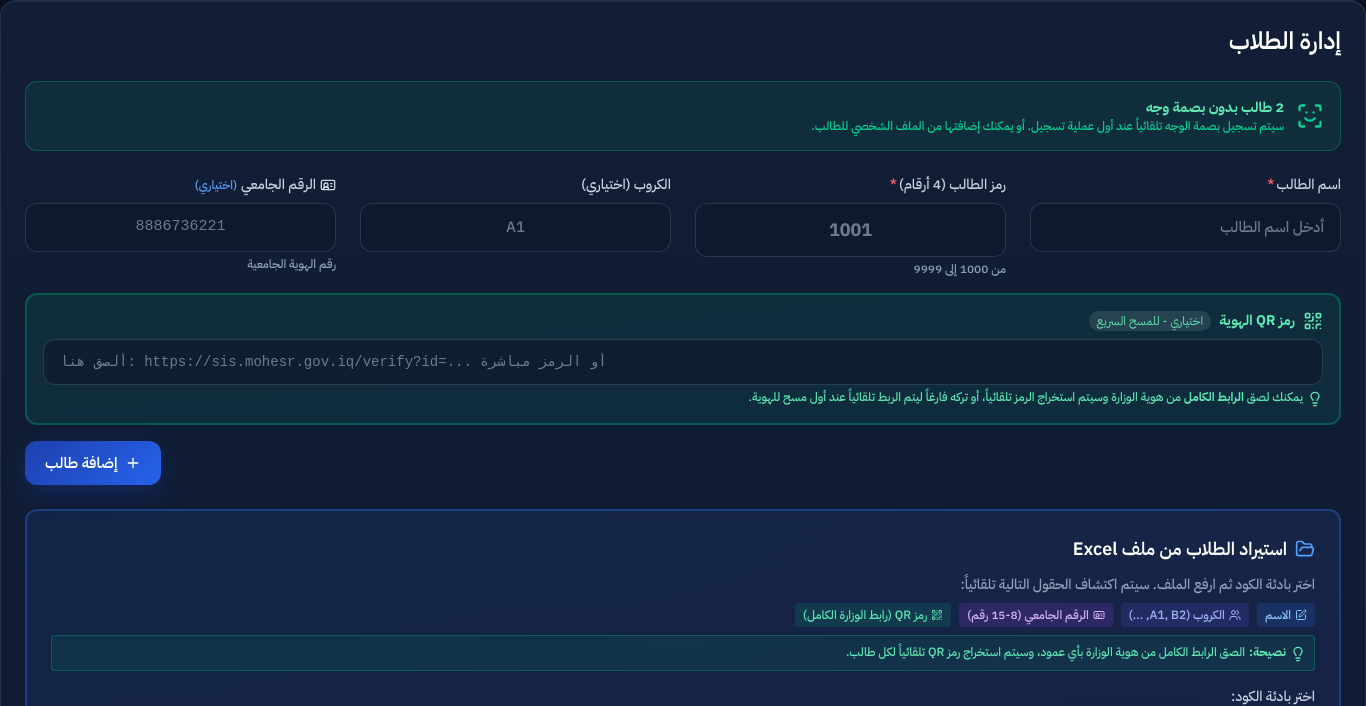
Test: StudentManager › validates code must be exactly 4 digits
Step 1. Type "اختبار" into the field labelled "اسم الطالب*" → point(1186, 227), box [1030, 203, 1341, 252]
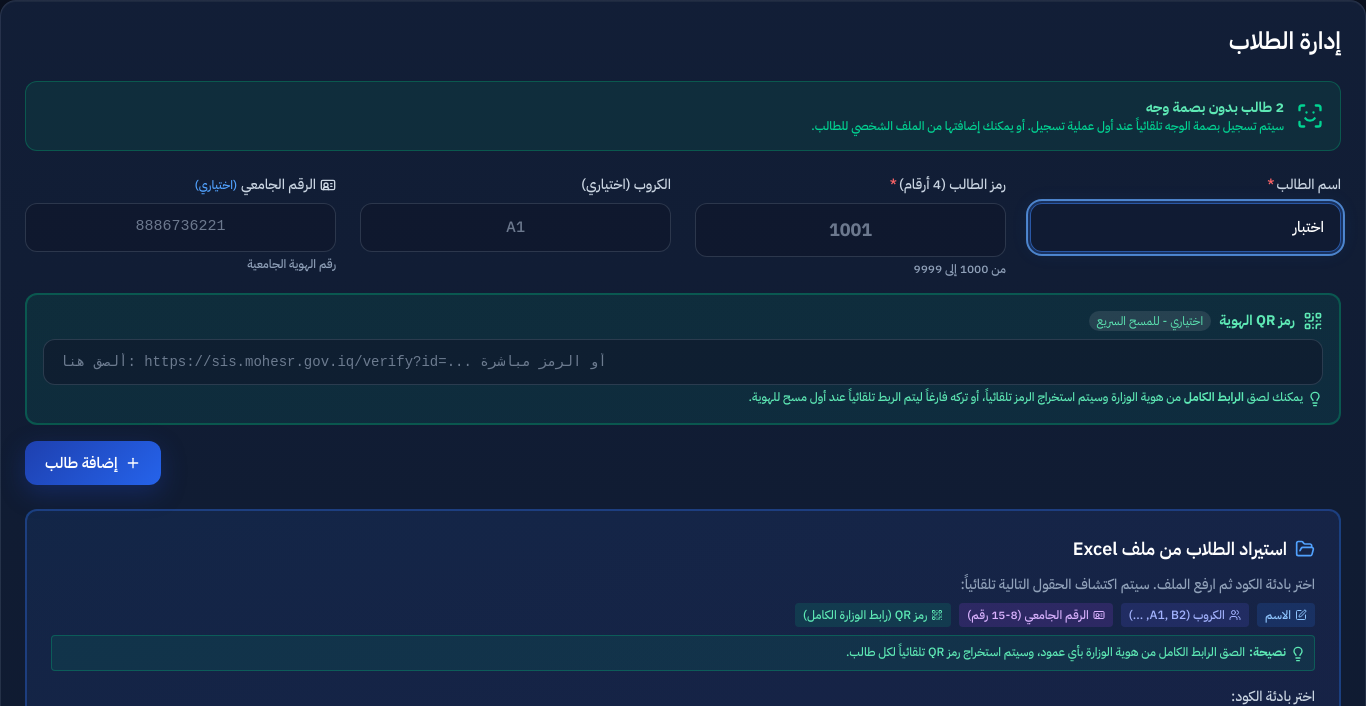
Step 2. Type "12" into the field labelled "رمز الطالب (4 أرقام)*" → point(850, 230), box [695, 203, 1006, 257]
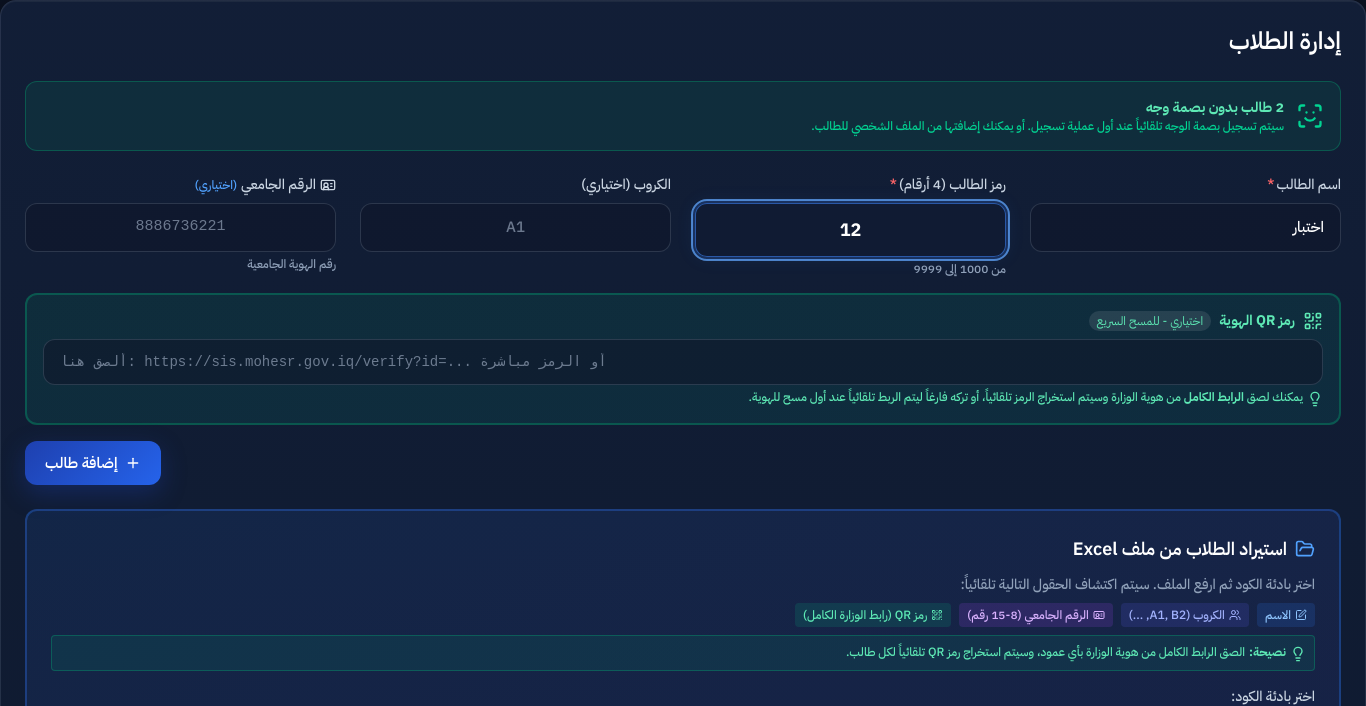
Step 3. Click the button "إضافة طالب" → point(93, 463), box [25, 441, 161, 485]
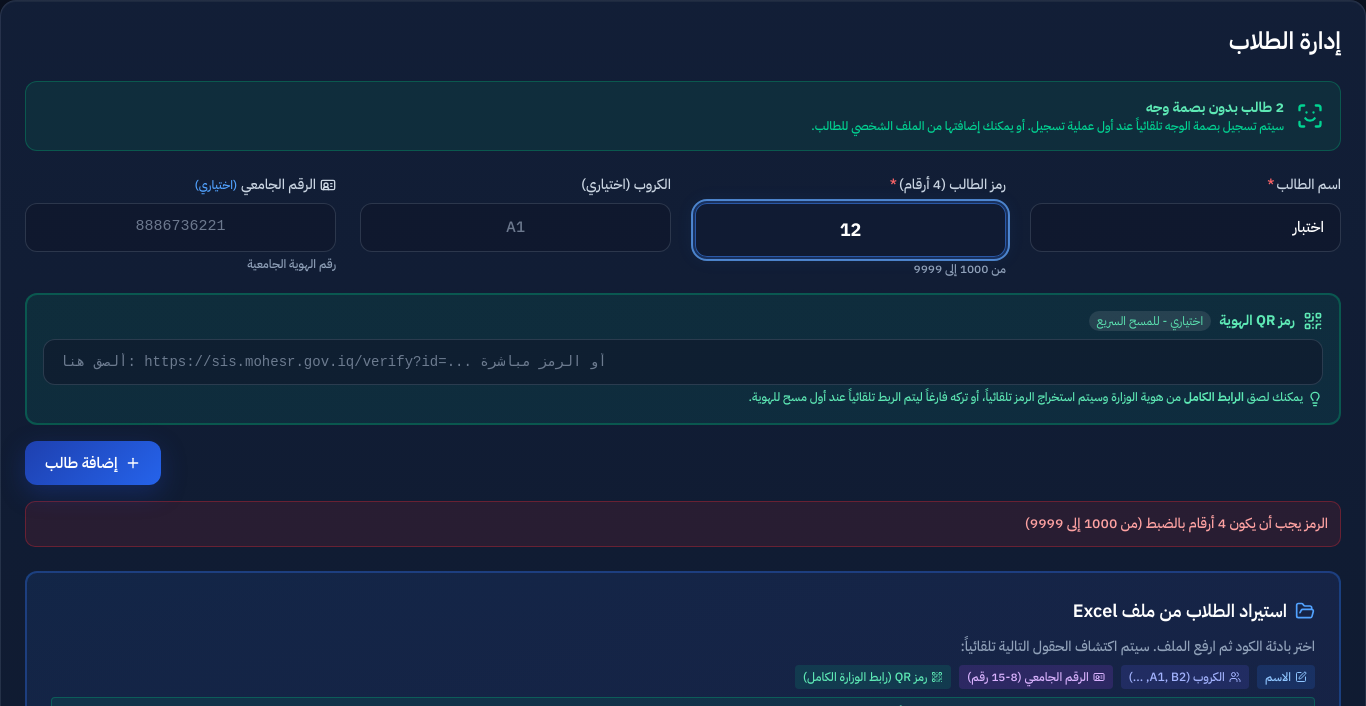
Now the text "الرمز يجب أن يكون 4 أرقام بالضبط (من 1000 إلى 9999)" is shown, box [25, 501, 1341, 547]
